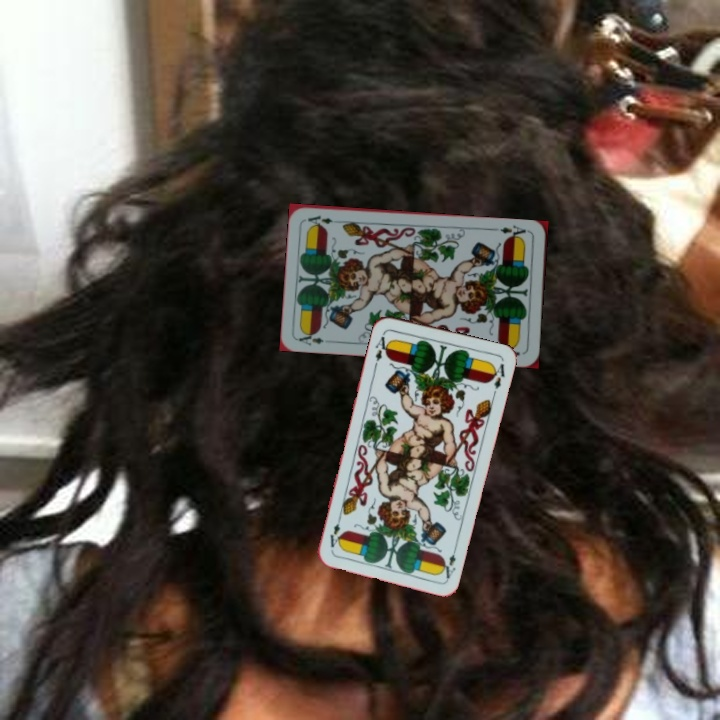EA: (371, 328, 393, 368), (491, 221, 532, 242), (437, 542, 459, 581), (295, 328, 326, 348)
